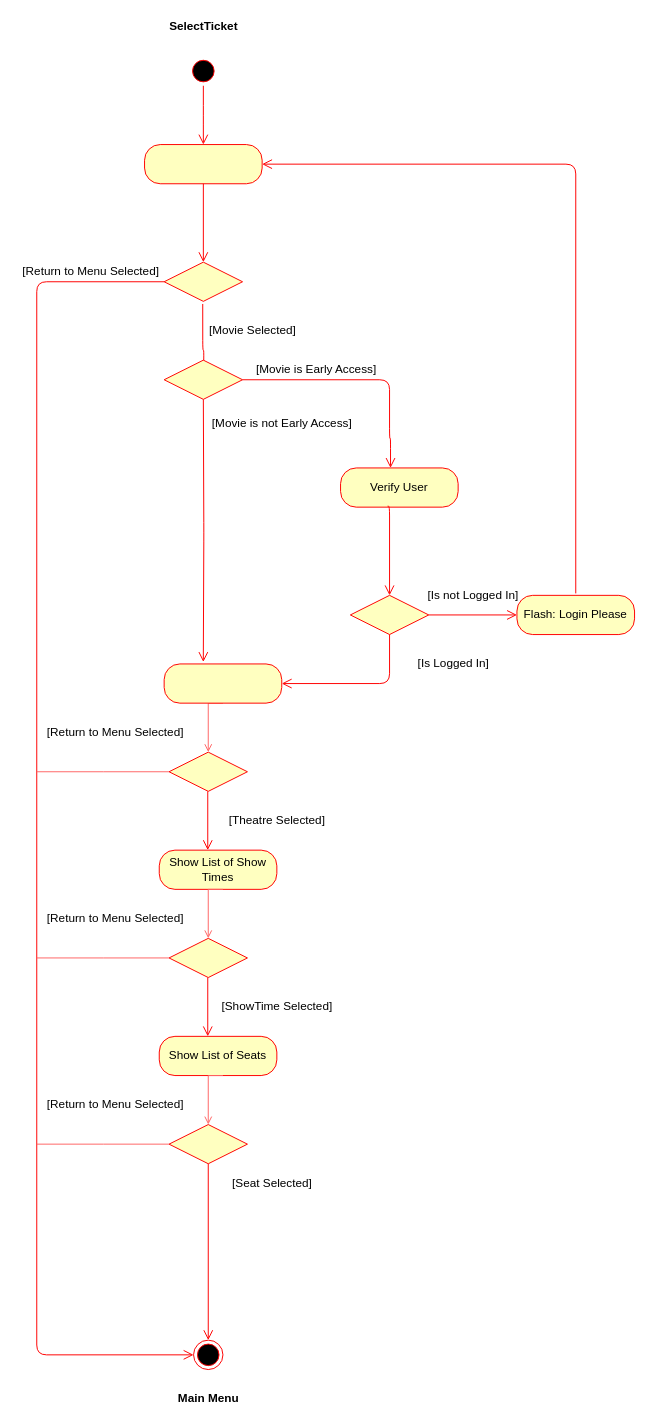
This 652x1425 diagram has some shape labels left out. The centre of each missing label's shape, as x and y in pixels:
Show List of Theatres: point (222, 683)
Show User Movies: point (203, 164)
